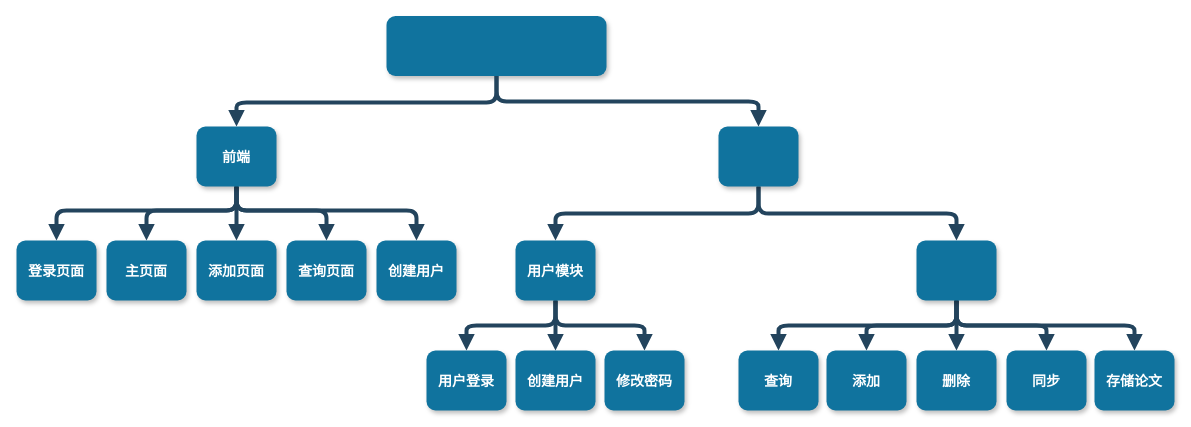
The diagram is 1191 pixels wide and 427 high, and some of its shapes have lost their labels. Here are the shapes that lost their labels. From the top down, the centre of each, then its label:
At (x=497, y=47): "科研成果管理系统".
At (x=759, y=157): "后端".
At (x=957, y=271): "数据模块".
